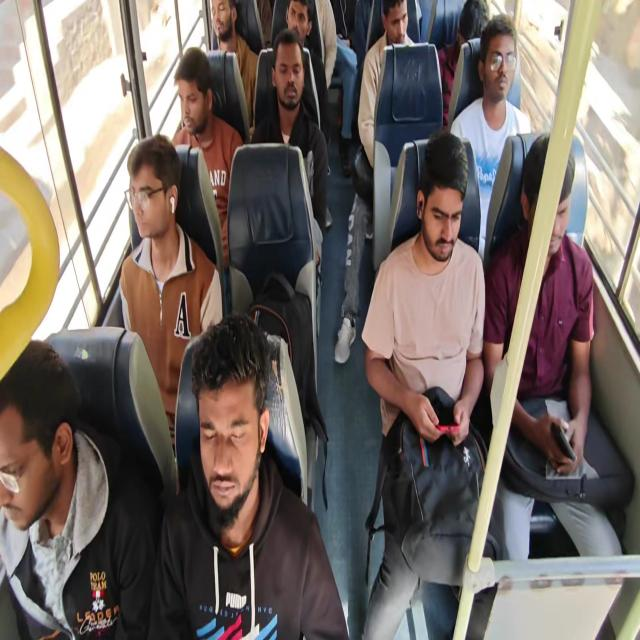person: (0, 338, 154, 640), (515, 135, 640, 323), (181, 338, 267, 596), (111, 130, 212, 301), (428, 135, 490, 294), (266, 30, 328, 154), (164, 41, 218, 130), (471, 19, 519, 90), (435, 0, 492, 50), (332, 0, 366, 75), (373, 0, 417, 47), (281, 1, 315, 52), (202, 0, 247, 36)
